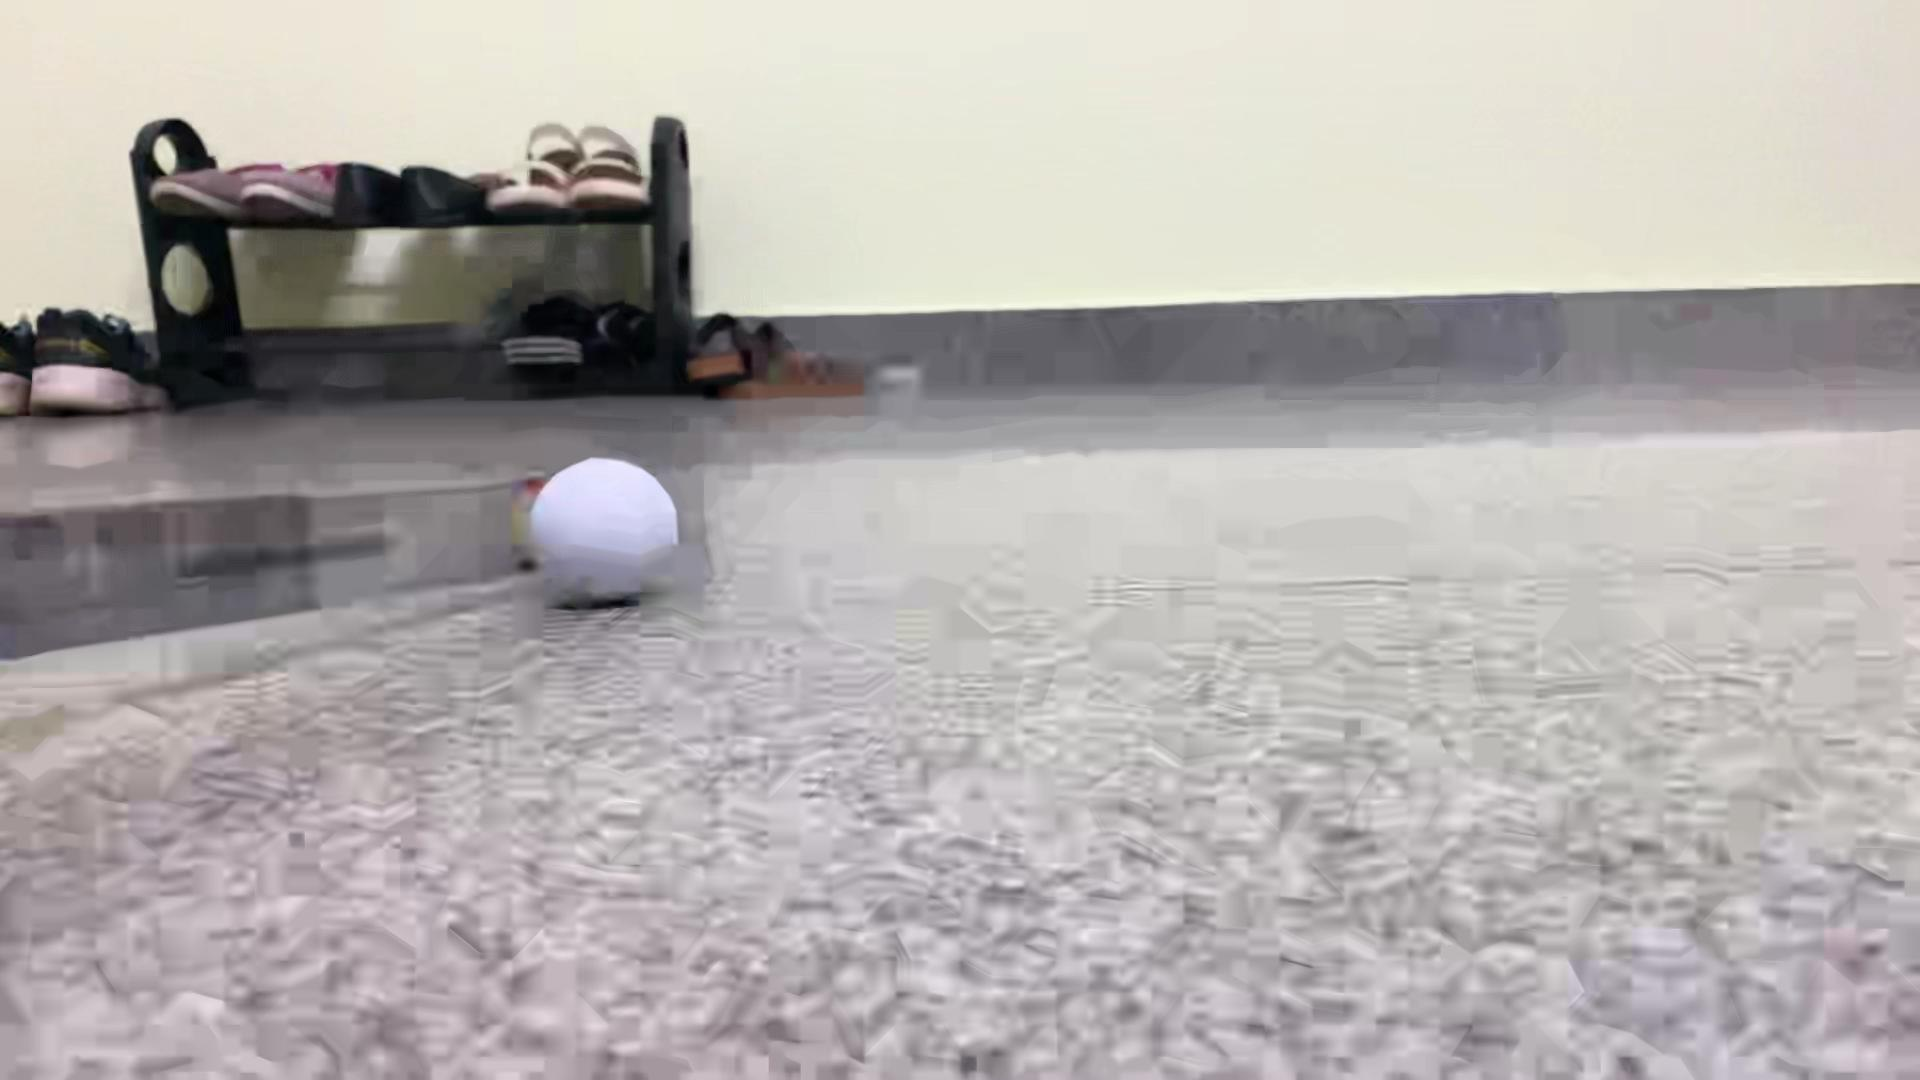golfball: (532, 458, 678, 603)
